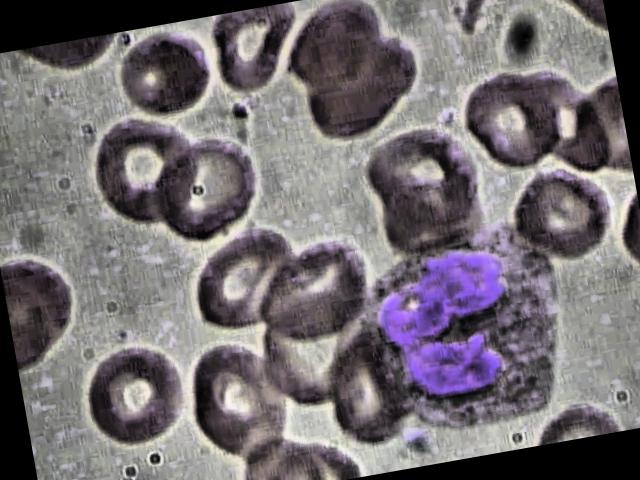RBC: (274, 0, 433, 155), (174, 330, 294, 474), (86, 101, 215, 234), (238, 228, 376, 351), (173, 218, 304, 339), (68, 332, 194, 456), (142, 125, 268, 248), (500, 156, 620, 270), (358, 116, 478, 230), (453, 61, 572, 175), (324, 324, 414, 454), (112, 17, 220, 120), (0, 247, 86, 376), (202, 2, 310, 104)
WBC: (339, 206, 595, 444)
